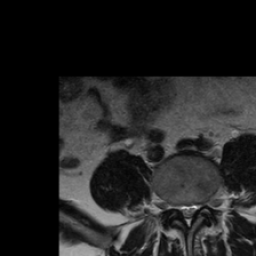CCS_normal: (184, 198, 192, 231)
LFS_severe_stenosis: (200, 194, 208, 214)
LLS_stenosis: (192, 197, 200, 219)
RFS_severe_stenosis: (169, 195, 177, 220)
RLS_stenosis: (176, 197, 184, 220)
